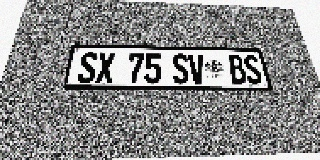5: (145, 53, 161, 83)
7: (127, 53, 144, 83)
B: (227, 55, 248, 84)
S: (77, 52, 98, 83), (242, 55, 264, 84), (172, 54, 190, 84)
V: (188, 54, 206, 84)
X: (95, 52, 115, 83)
